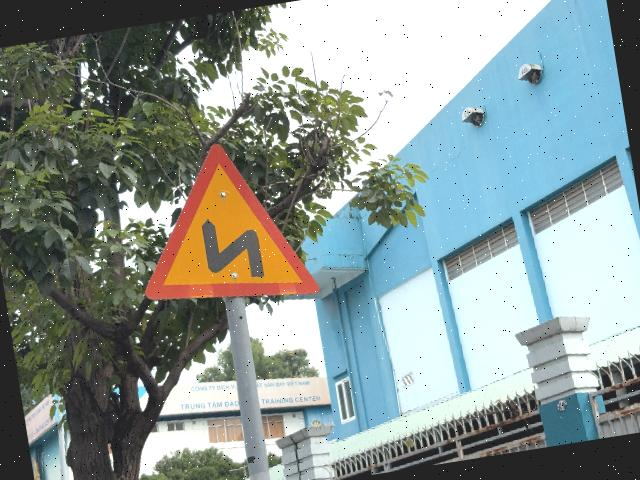nhieu-cho-ngoat-nguy-hiem-lien-tiep: (123, 131, 320, 320)
